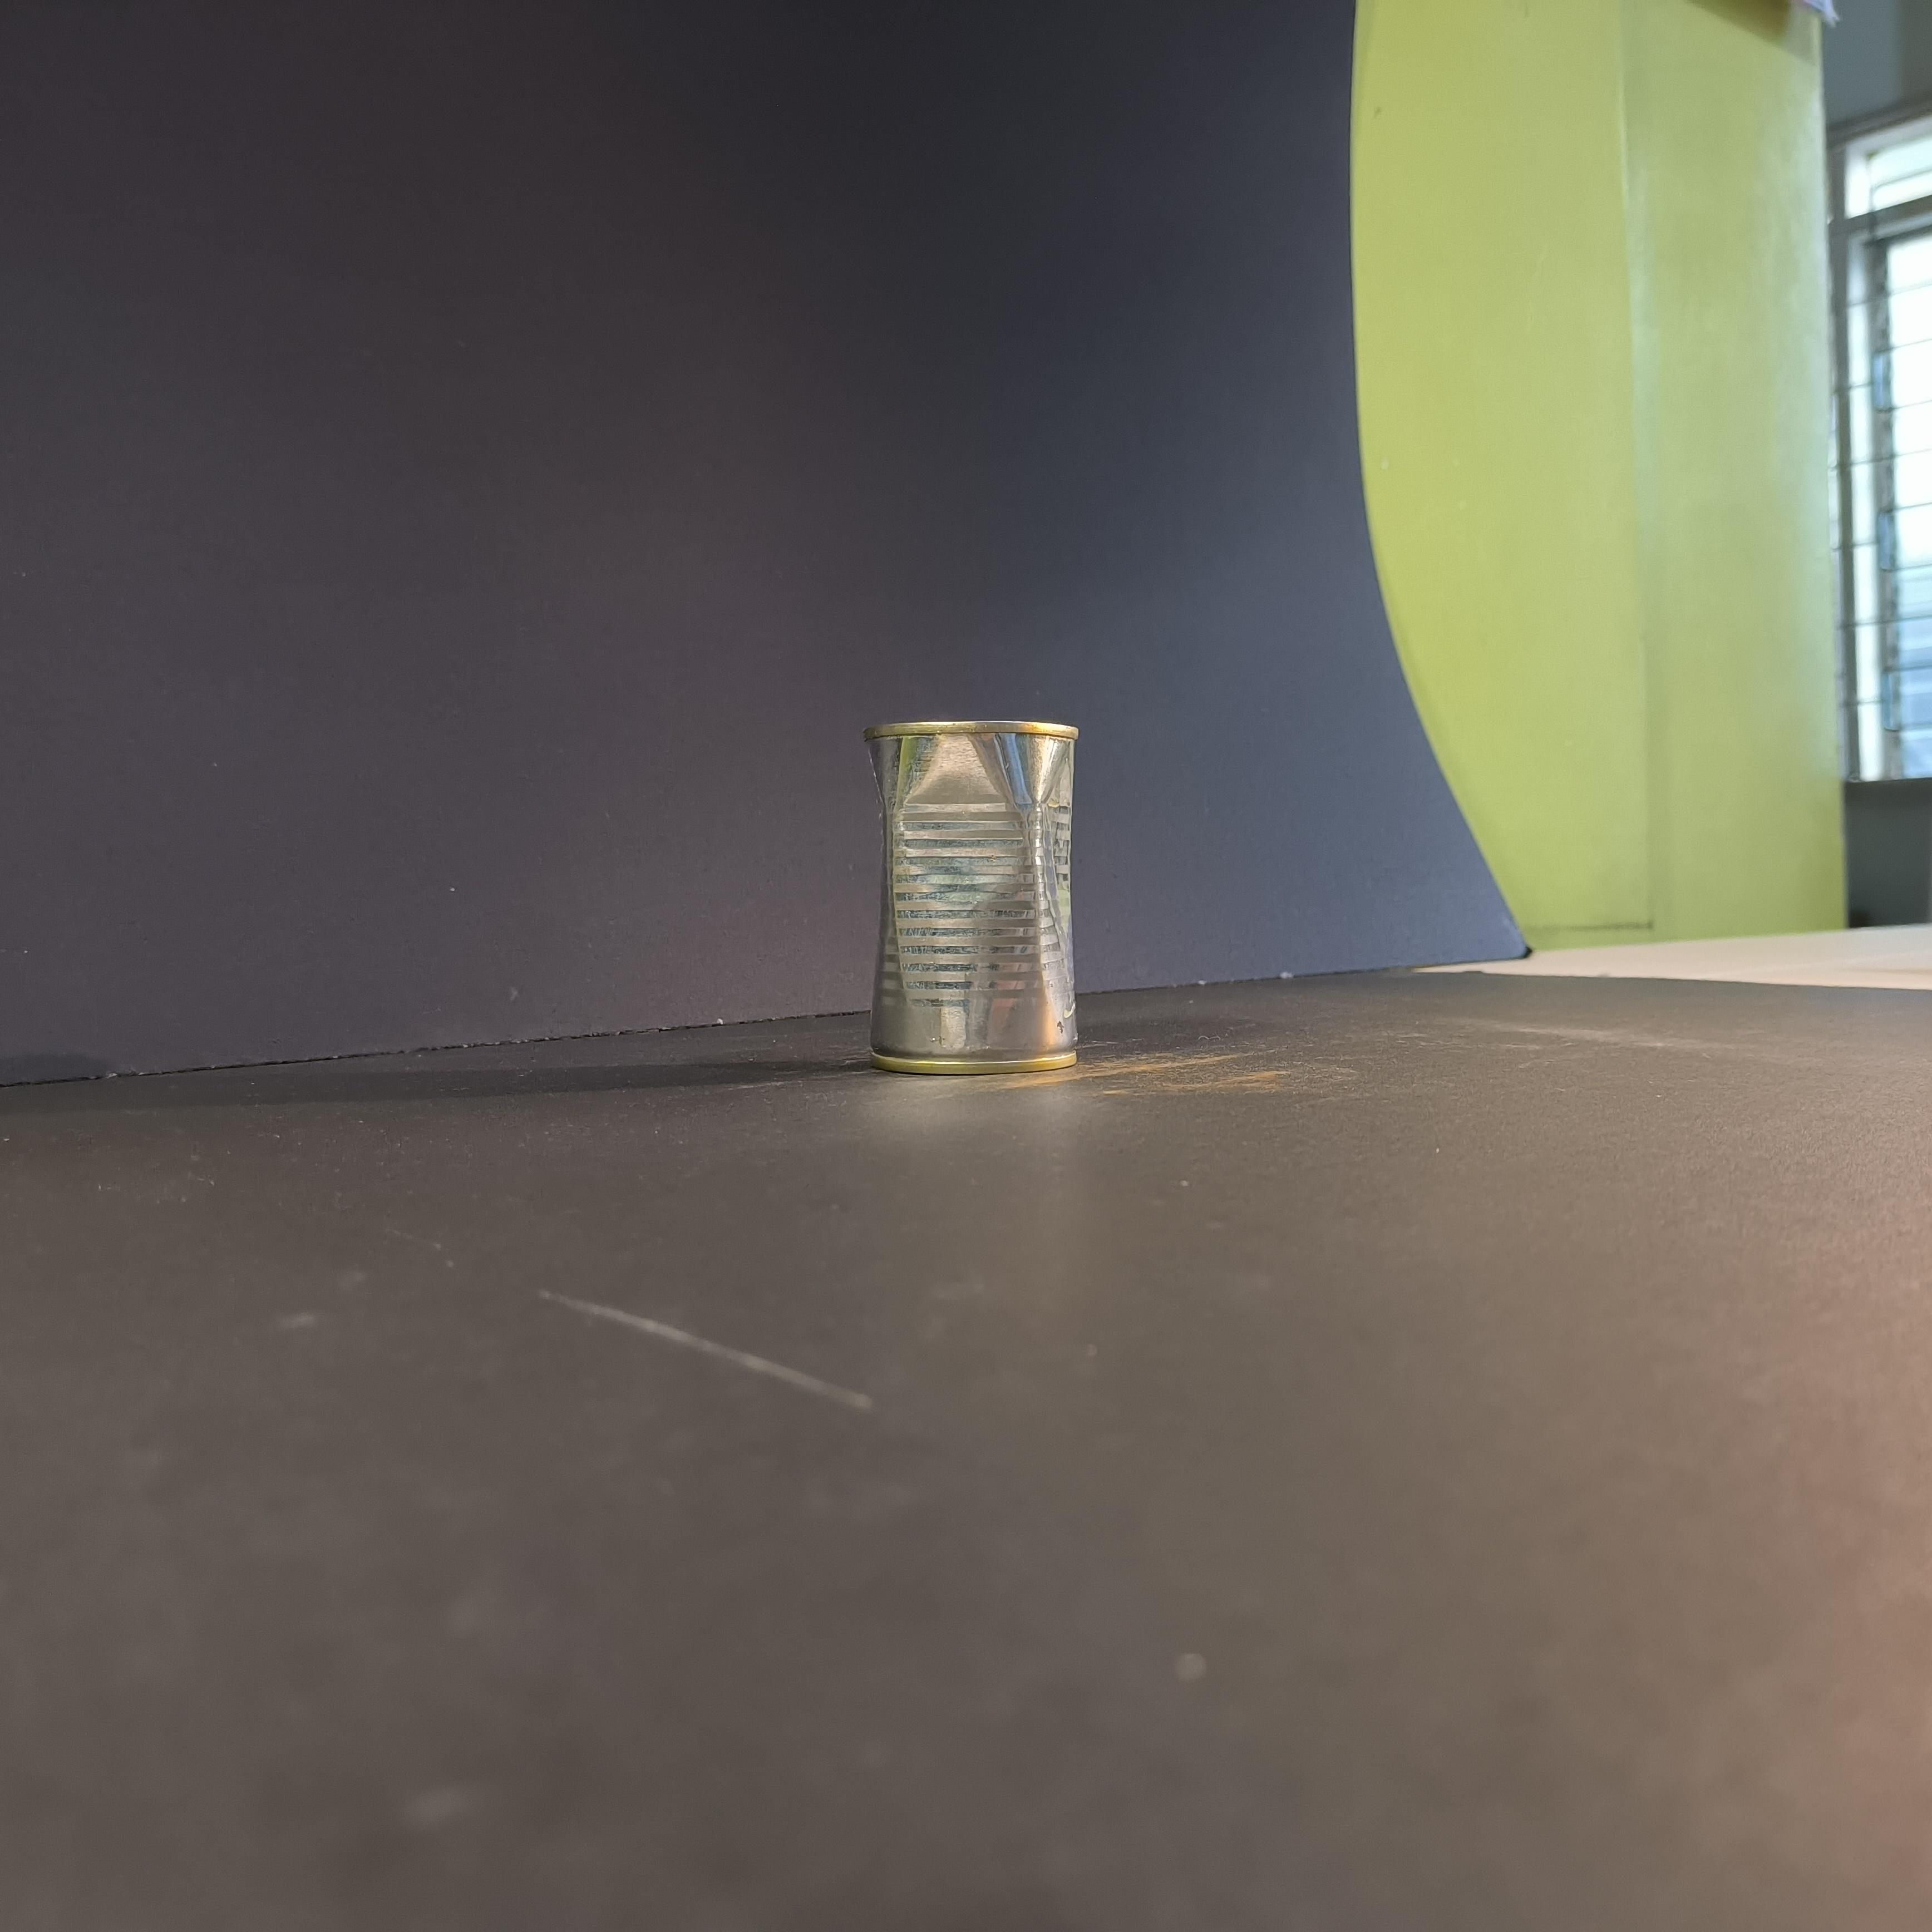Minor Defect: (863, 721, 1079, 1077)
